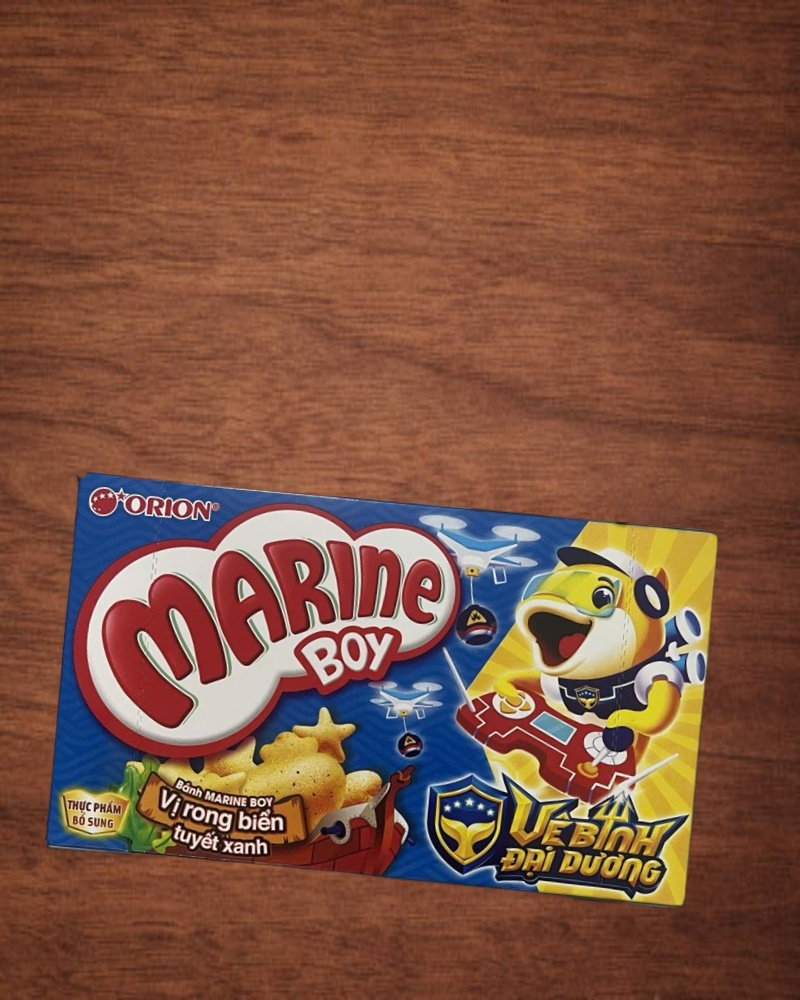Marine: (47, 472, 721, 909)
